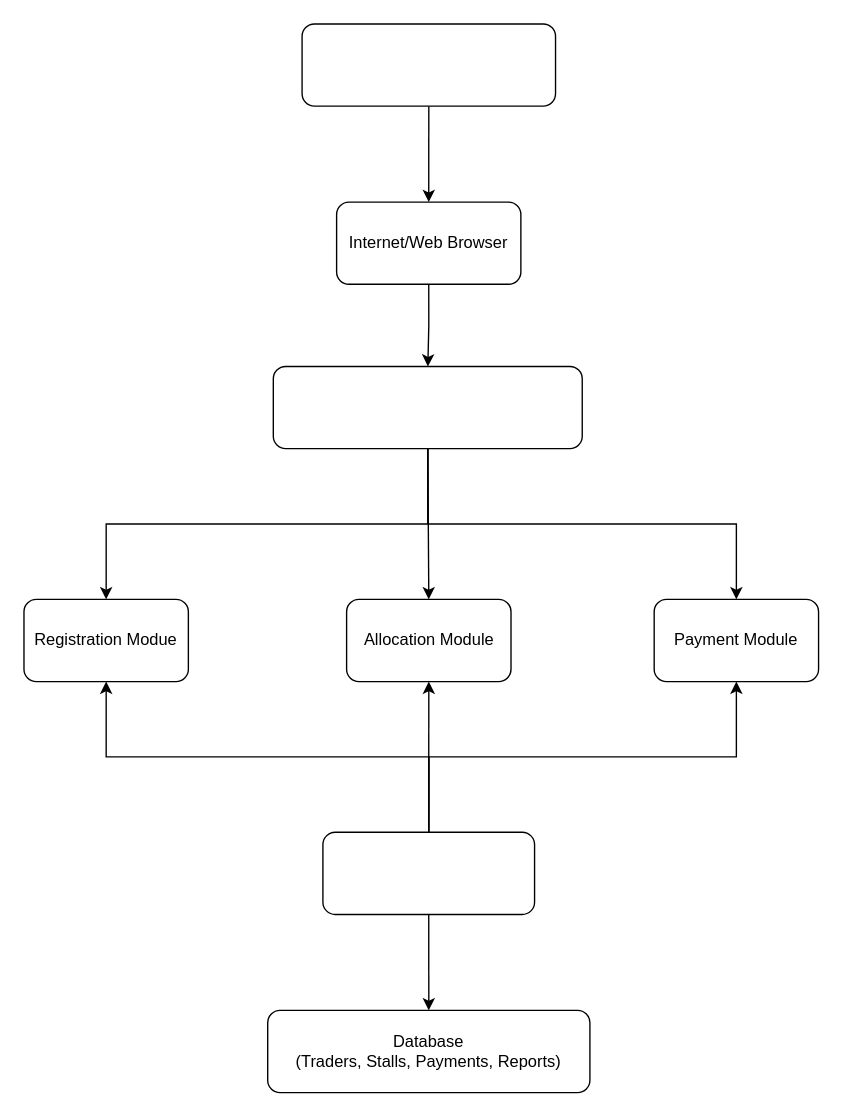
This 843x1117 diagram has some shape labels left out. Each missing label, with the box of its shape:
Market Users — Traders & Admin: (301, 23, 556, 106)
Report Generation Module: (322, 831, 535, 914)
Web Application — Market Stall Allocation: (272, 365, 582, 449)
